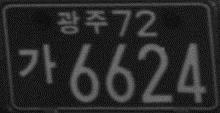2: (137, 42, 173, 104), (134, 9, 157, 37)
4: (175, 42, 207, 103)
6: (105, 42, 136, 103), (69, 42, 99, 103)
7: (110, 8, 132, 38)
가: (17, 42, 56, 85)
광주_O: (56, 8, 107, 35)
